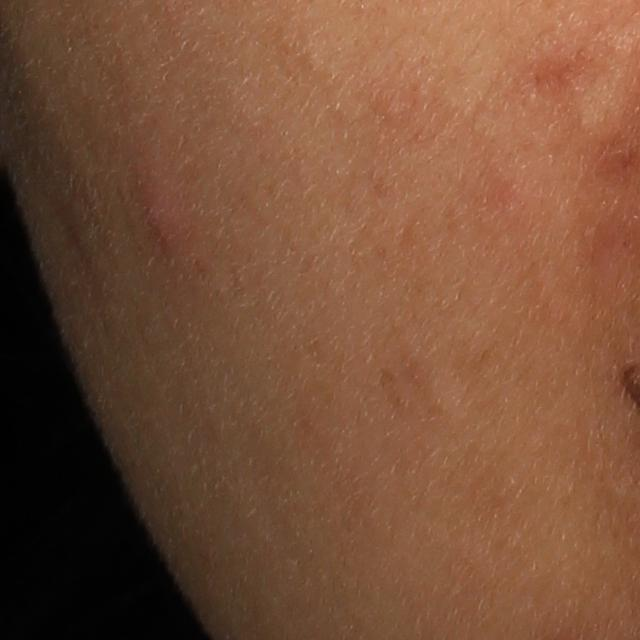papule: (132, 162, 189, 258)
